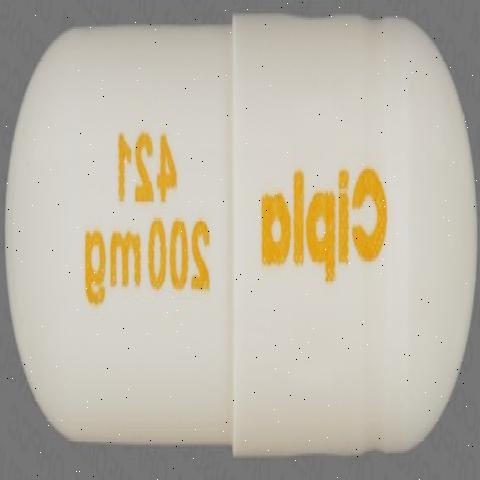Pill: (0, 12, 476, 460)
